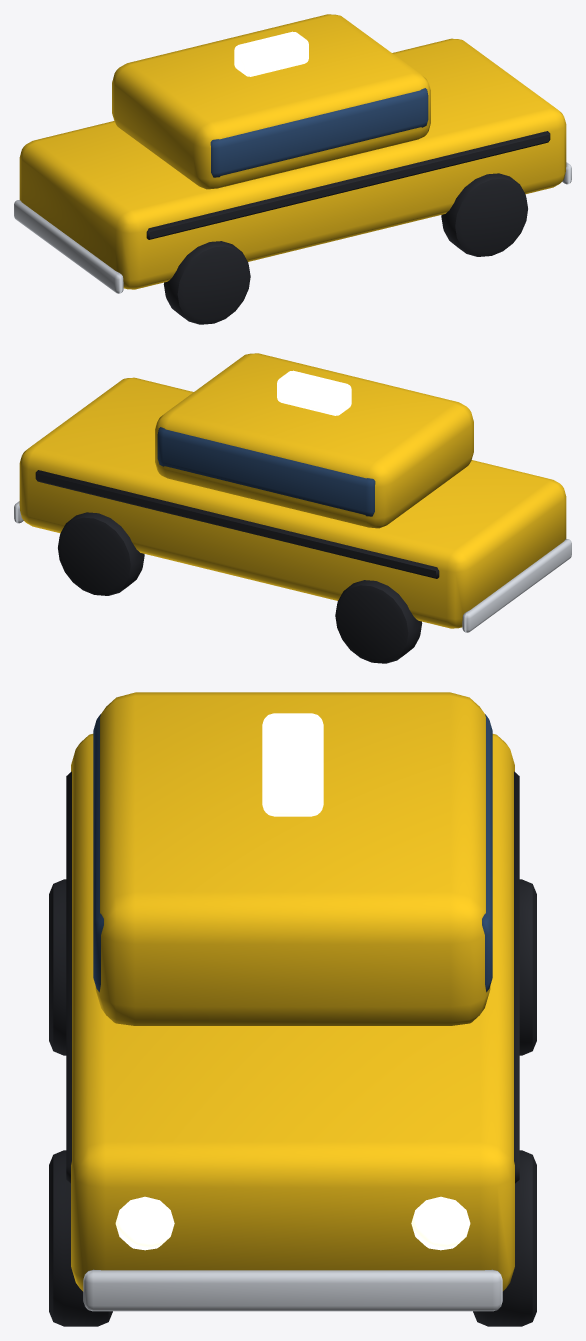
File: ct_taxi.glb
The picture shows the model from 3 angles, top to bottom: view 1: azimuth 30°, elevation 25°; view 2: azimuth 150°, elevation 25°; view 3: azimuth 270°, elevation 25°; orthographic projection. The views are drawn at different scales.
Visible parts, largest first — view 1: ct_taxi; view 2: ct_taxi; view 3: ct_taxi.
Part boxes in pixels (x1,y1,x2,y2): ct_taxi: (14, 14, 571, 324); ct_taxi: (14, 353, 571, 663); ct_taxi: (49, 692, 536, 1326).
Bounding box in the file's own units: 4.3 × 1.89 × 1.98.
